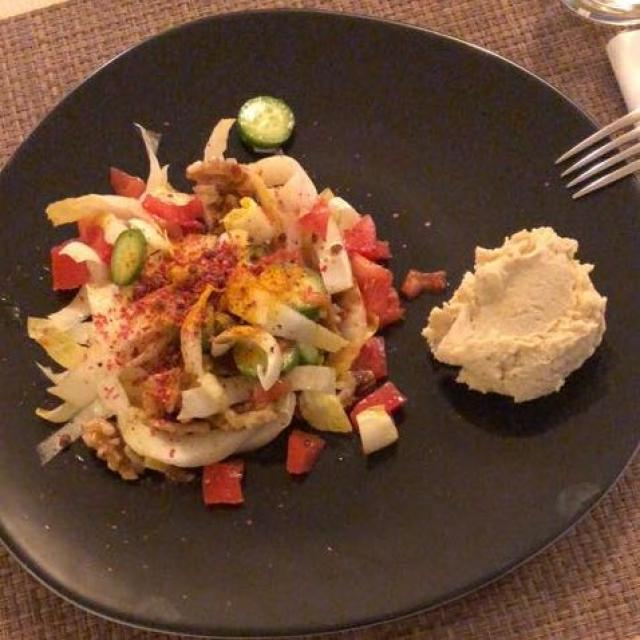hummus: (420, 209, 610, 416)
tomato-raw: (40, 139, 420, 510)
walnut: (82, 145, 281, 494)
witloof-chicory: (22, 168, 390, 478)
